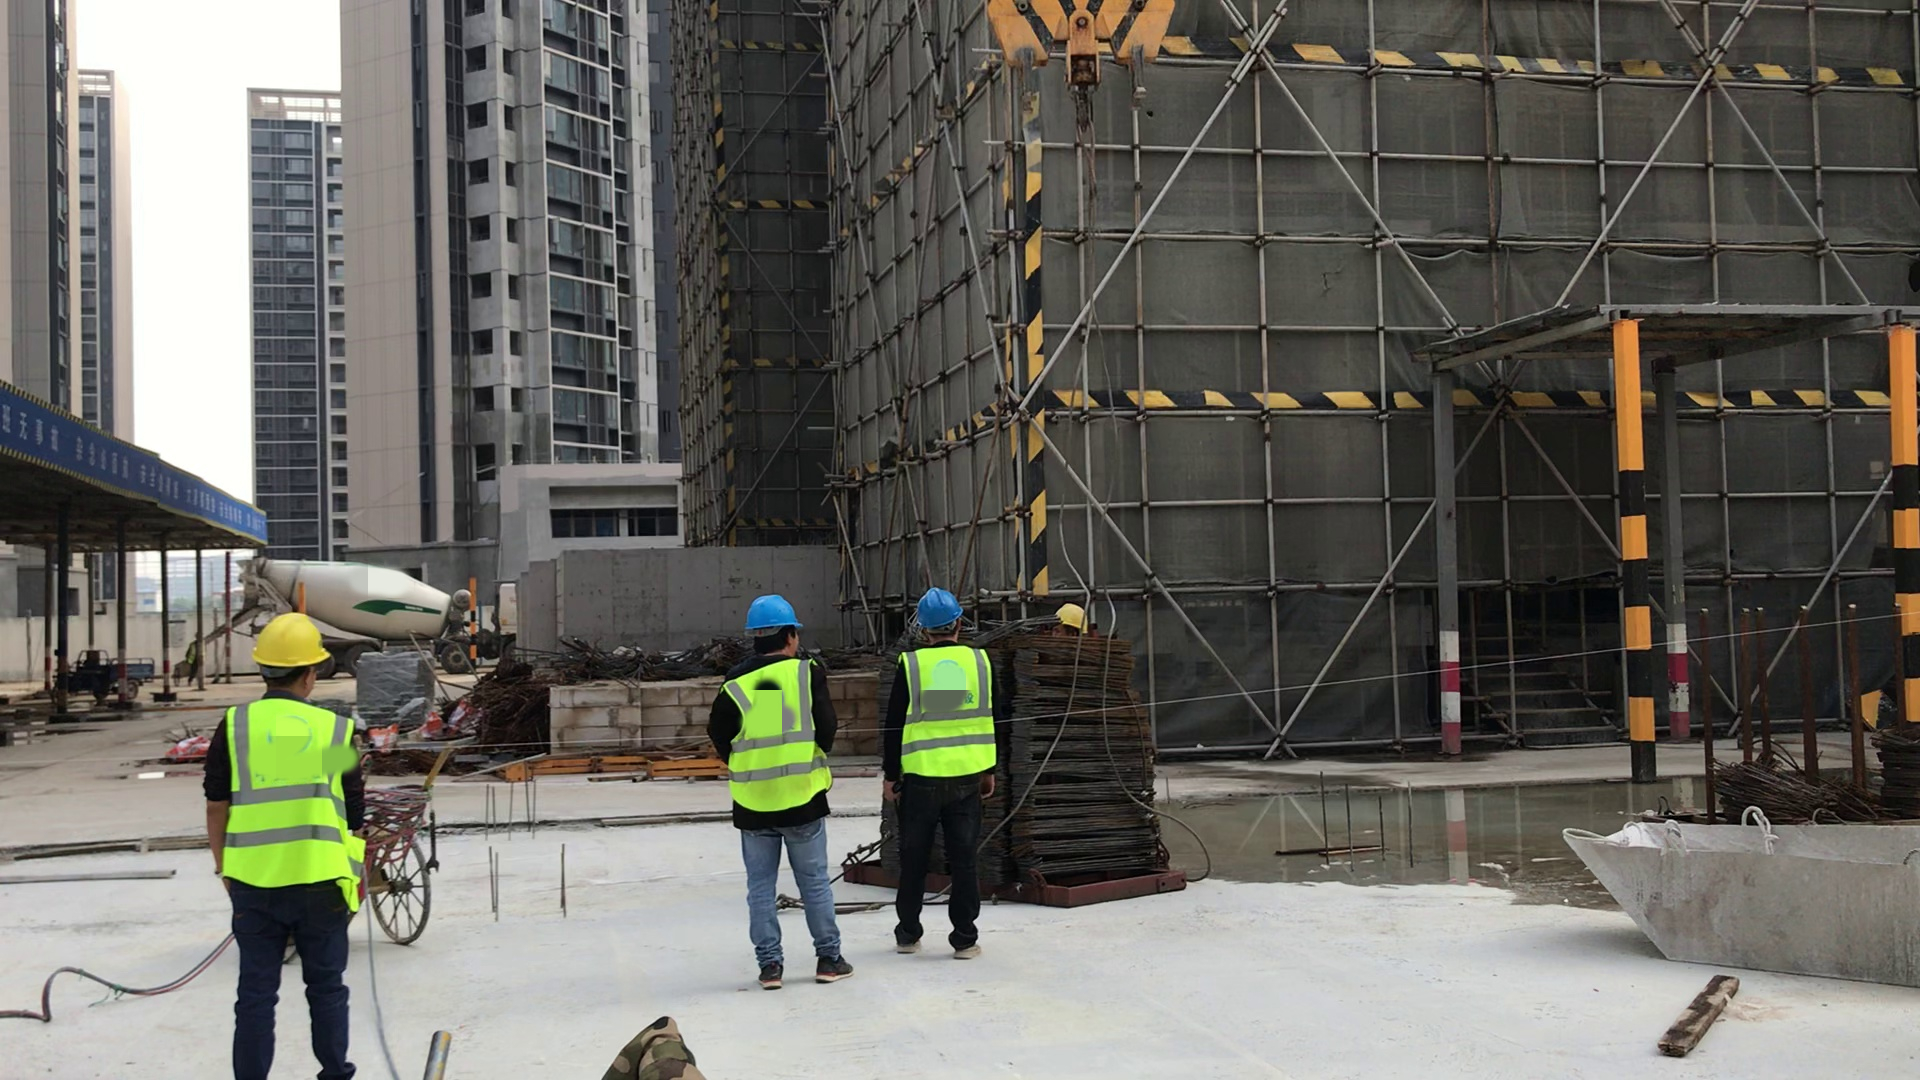fence: (2, 395, 155, 491), (162, 465, 224, 522), (230, 498, 271, 539)
handcart: (366, 741, 454, 950)
helmet: (248, 612, 331, 680), (742, 597, 804, 643), (910, 589, 967, 628), (1051, 603, 1088, 632)
hook: (977, 2, 1176, 128)
hopper: (1555, 809, 1920, 1006)
person: (201, 606, 367, 1080), (703, 589, 859, 991), (877, 587, 1012, 963), (186, 633, 199, 689)
vest: (222, 702, 364, 917), (728, 653, 837, 814), (898, 646, 997, 779)
